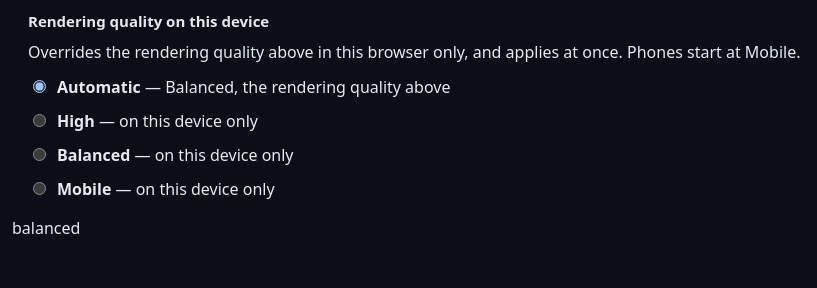
Test: rendering quality on this device (P7-03) › follows the server tier on a desktop until this browser picks its own
This screenshot has width=817, height=288.
Expected: the radio button labelled "Automatic — Balanced, the rendering quality above" is checked, [33,80,46,93]
Expected: the label "Automatic — Balanced, the rendering quality above" is shown, [33,76,450,98]
Click the radio button labelled "High — on this device only" at (40, 120), box [33,114,46,127]
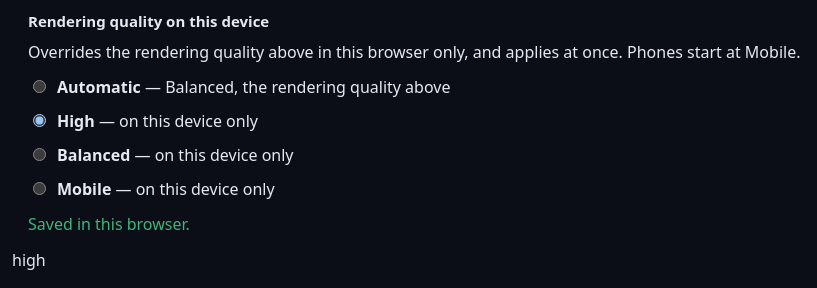
Expected: the text named "scene tier" reads "high", [12,249,46,271]
Expected: the message reads "Saved in this browser.", [28,213,190,235]
Click the radio button labelled "Automatic — Balanced, the rendering quality above" at (40, 86), box [33,80,46,93]
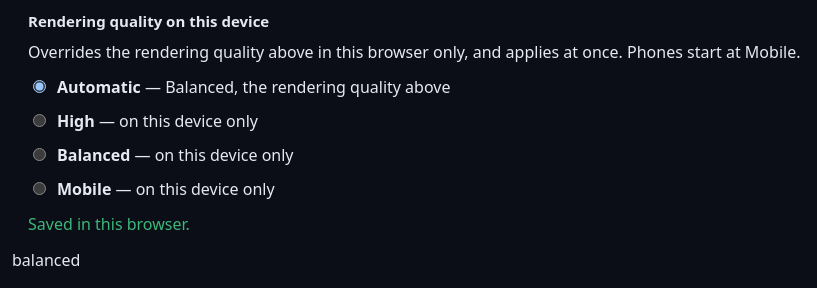
Expected: the text named "scene tier" reads "balanced", [12,249,80,271]
